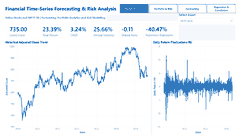

The dashboard page shown, as its layout file describes it:
{"tool":"powerbi","page":{"name":"Market Overview","canvas":[1280,720],"ordinal":0},"visuals":[{"type":"textbox","box":[0,0,640.6,58.1],"z":0},{"type":"textbox","box":[0,58.1,565.1,33.3],"z":1000},{"type":"slicer","title":"Select Asset","fields":{"Values":["Asset_Table.Asset"]},"box":[719,3.8,561,70.8],"z":2000},{"type":"cardVisual","fields":{"Data":["Historical_Prices.Latest Adjusted Close"]},"box":[0,91,200.9,108.7],"z":3000},{"type":"cardVisual","fields":{"Data":["Asset_Metrics.Asset Total Return"]},"box":[182,91,200.9,108.7],"z":4000},{"type":"cardVisual","fields":{"Data":["Asset_Metrics.Asset CAGR"]},"box":[336.1,91,200.9,108.7],"z":5000},{"type":"cardVisual","fields":{"Data":["Asset_Metrics.Asset Annual Volatility"]},"box":[463.7,91,200.9,108.7],"z":6000},{"type":"cardVisual","fields":{"Data":["Asset_Metrics.Asset Sharpe Ratio"]},"box":[617.9,91,200.9,108.7],"z":7000},{"type":"cardVisual","fields":{"Data":["Asset_Metrics.Asset Maximum Drawdown"]},"box":[753.1,91,209.8,108.7],"z":8000},{"type":"lineChart","title":"Historical Adjusted Close Trend","fields":{"Category":["Date_Table.Date"],"Y":["Max(Historical_Prices.Adjusted Close)"]},"box":[0,199.6,808.7,520.6],"z":9000},{"type":"lineChart","title":"Daily Return Fluctuations (%)","fields":{"Category":["Date_Table.Date"],"Y":["Max(Daily_Returns.Daily Return (%))"]},"box":[818.8,199.6,461.2,520.6],"z":10000}]}

Visuals, with their boxes in screenshot pixels (x1, y1, x2, y2), scaled from the page's 1280x720 canvas onto the 240x139 screenshot:
textbox: select_region(0, 0, 120, 11)
textbox: select_region(0, 11, 106, 18)
"Select Asset" slicer: select_region(135, 1, 239, 14)
cardVisual - Historical_Prices.Latest Adjusted Close: select_region(0, 18, 38, 39)
cardVisual - Asset_Metrics.Asset Total Return: select_region(34, 18, 72, 39)
cardVisual - Asset_Metrics.Asset CAGR: select_region(63, 18, 101, 39)
cardVisual - Asset_Metrics.Asset Annual Volatility: select_region(87, 18, 125, 39)
cardVisual - Asset_Metrics.Asset Sharpe Ratio: select_region(116, 18, 154, 39)
cardVisual - Asset_Metrics.Asset Maximum Drawdown: select_region(141, 18, 181, 39)
"Historical Adjusted Close Trend" lineChart: select_region(0, 39, 152, 138)
"Daily Return Fluctuations (%)" lineChart: select_region(154, 39, 239, 138)
